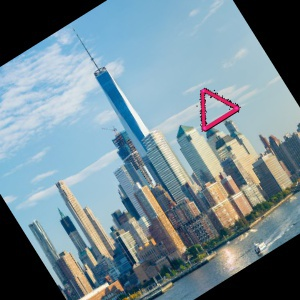triangle: (198, 84, 241, 133)
